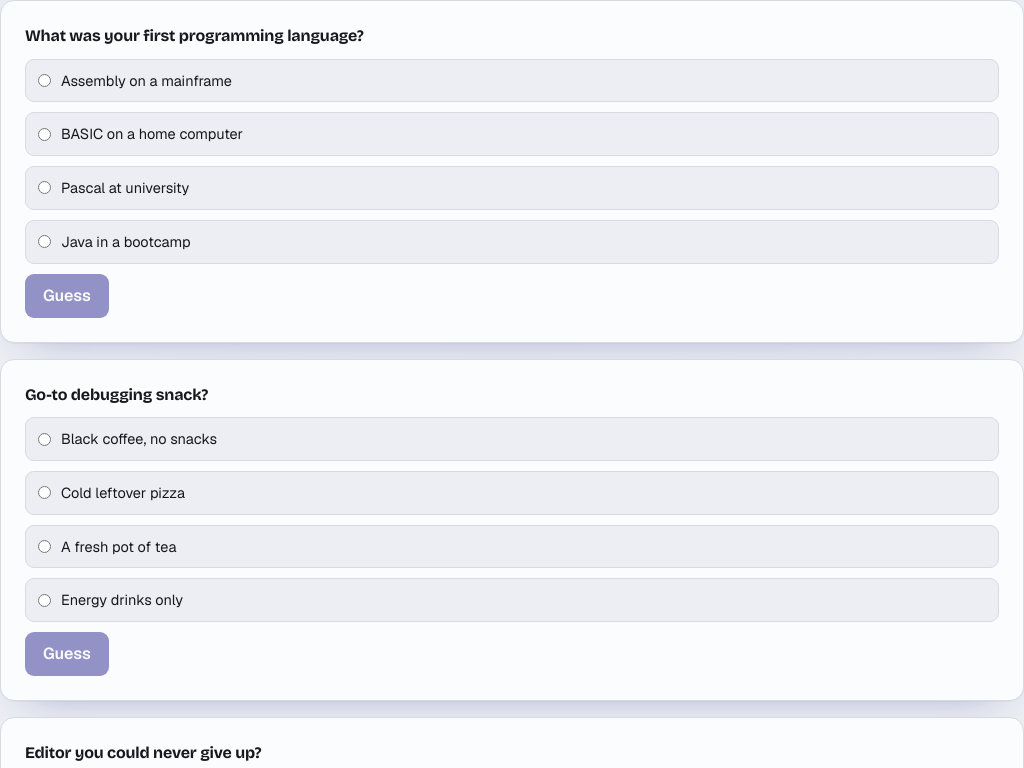
Test: GuessForm: per-question independence › locks only the submitted question, leaving the rest answerable
Click the radio button labelled "BASIC on a home computer" at (44, 134), box 38,128 -> 51,141
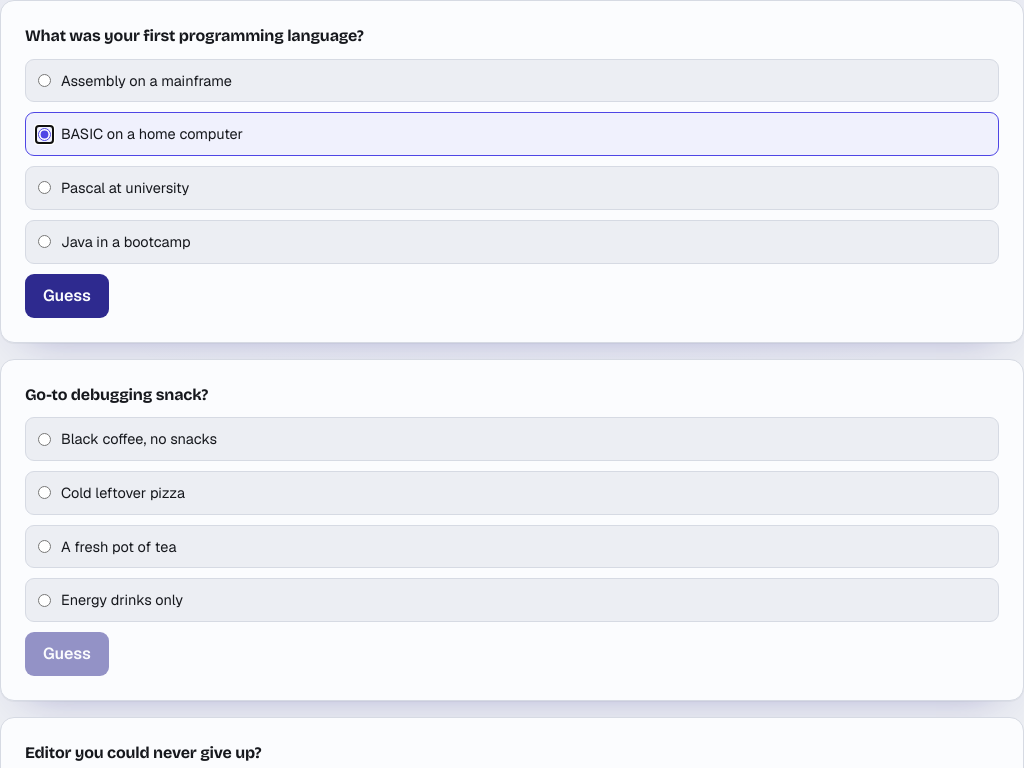
Click the button "Guess" below "Java in a bootcamp" at (67, 296), box 25,274 -> 109,318
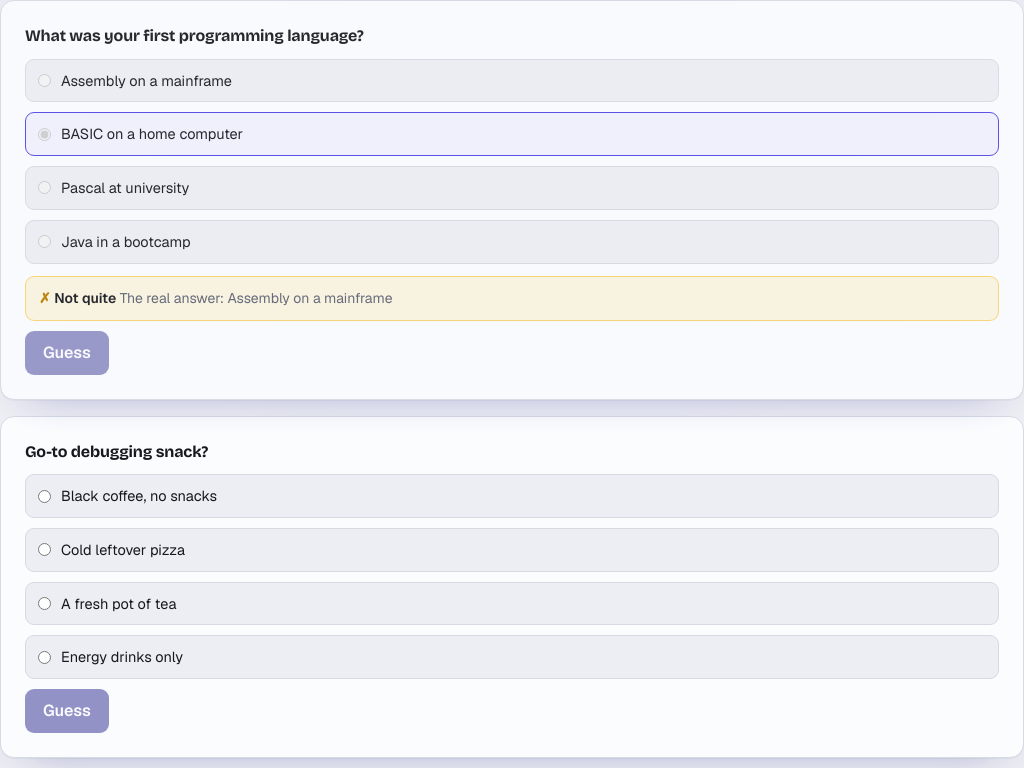
Expected: the text "Go-to debugging snack?" is shown, 25,442 -> 208,461
Expected: the radio button labelled "BASIC on a home computer" is disabled, 38,128 -> 51,141
